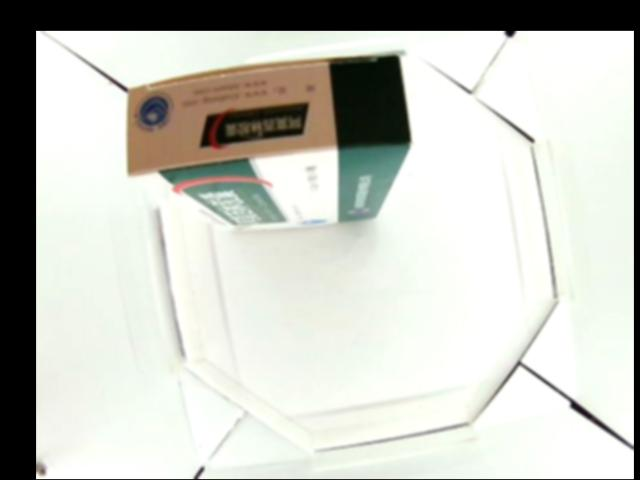Medicine: (125, 56, 410, 227)
